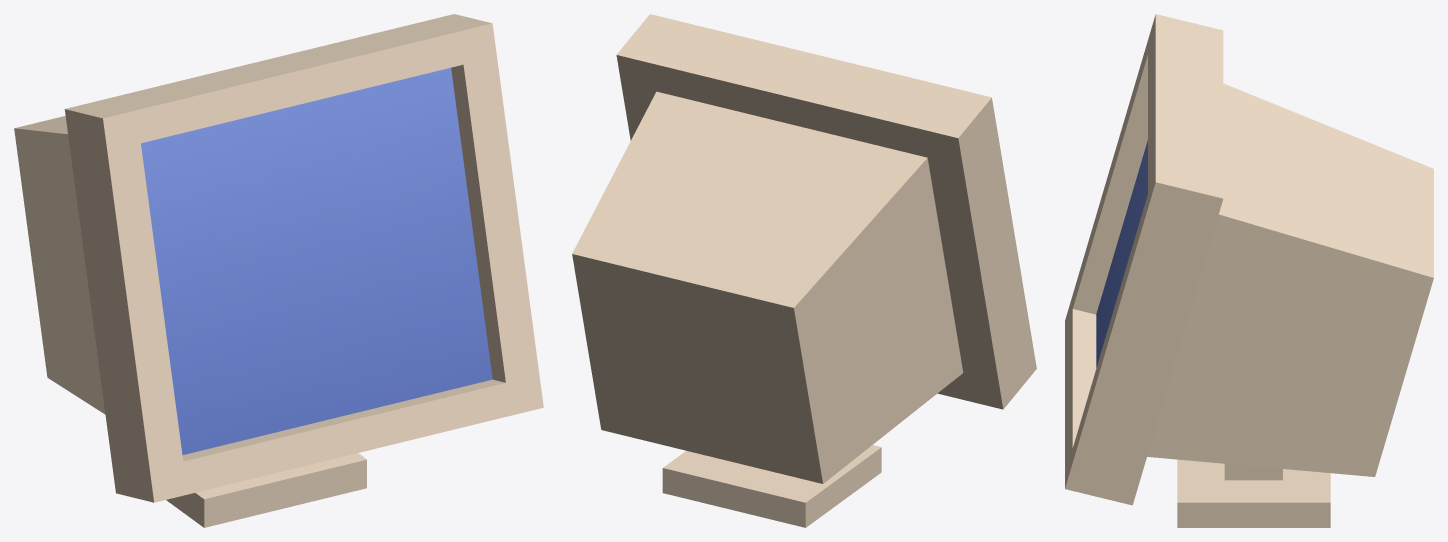
File: crt_monitor.fbx
The picture shows the model from 3 angles, left to right: view 1: azimuth 30°, elevation 25°; view 2: azimuth 150°, elevation 25°; view 3: azimuth 270°, elevation 25°; orthographic projection. The views are drawn at different scales.
Parts seen in each view (by area): view 1: crt_monitor; view 2: crt_monitor; view 3: crt_monitor.
Boxes of the visible parts, bbox=[...] form: crt_monitor: bbox=[14, 14, 543, 527]; crt_monitor: bbox=[572, 14, 1036, 527]; crt_monitor: bbox=[1065, 14, 1433, 527].
Bounding box in the file's own units: 39.75 × 43.48 × 36.84.
